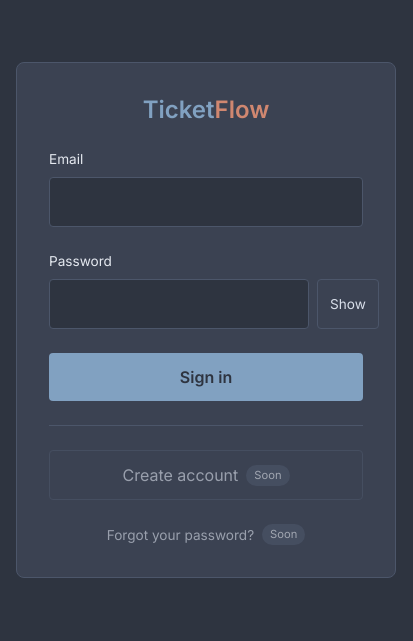
it: LoginPage › muestra un mensaje genérico si la falla no es un error de la API (por ejemplo, de red)
The width and height of the screenshot is (413, 641).
Type "sofia.hernandez@ticketflow.com" into the field labelled "Email" at (206, 202), box top-left (49, 177), bottom-right (363, 227)
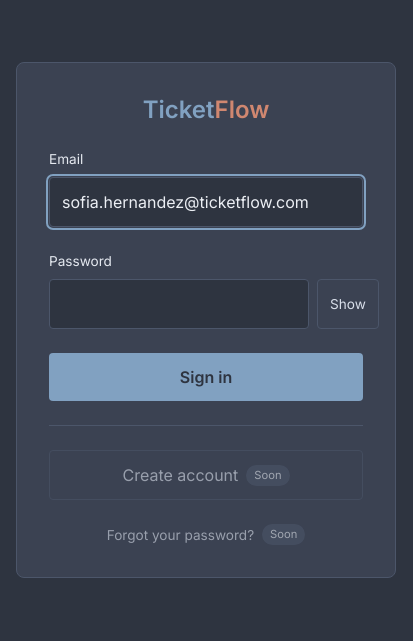
Type "ticket123" into the password field labelled "Password" at (179, 304), box top-left (49, 280), bottom-right (309, 330)
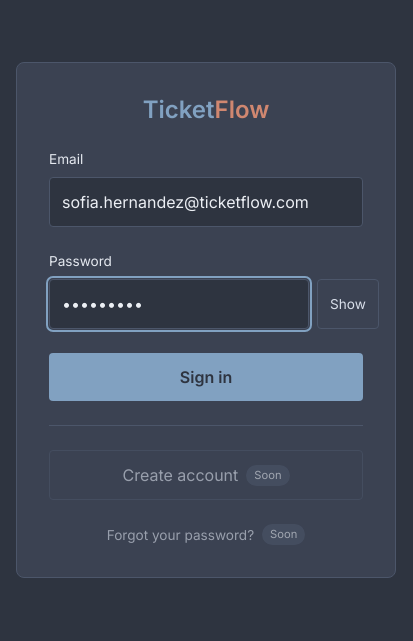
Click the button "Sign in" at (206, 378), box top-left (49, 354), bottom-right (363, 402)
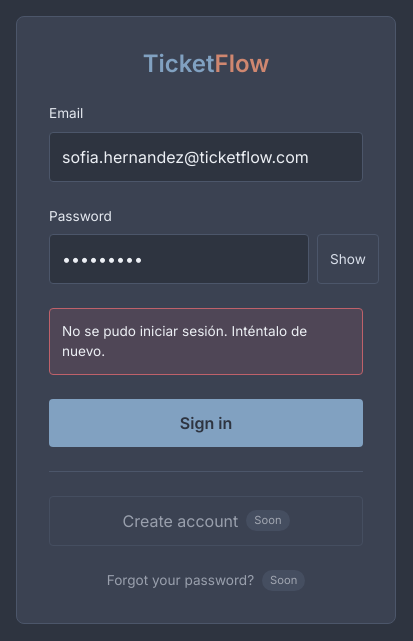
Result: the message reads "No se pudo iniciar sesión. Inténtalo de nuevo." at top-left (62, 323), bottom-right (307, 360)
